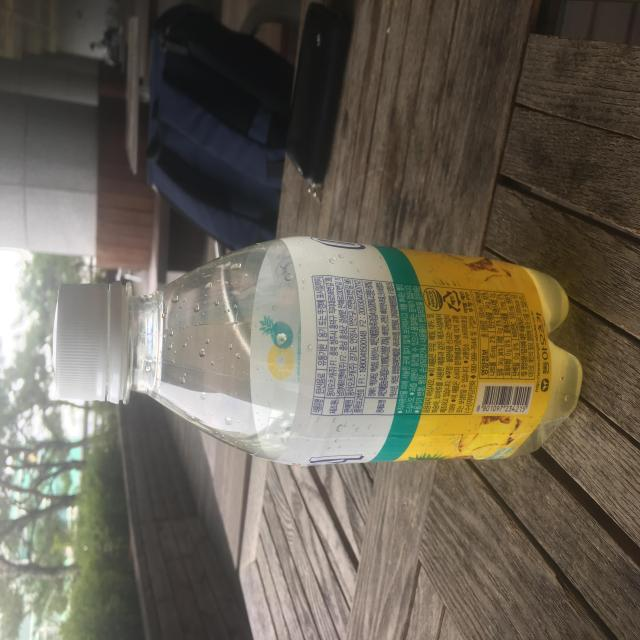bottle: (56, 230, 574, 470)
